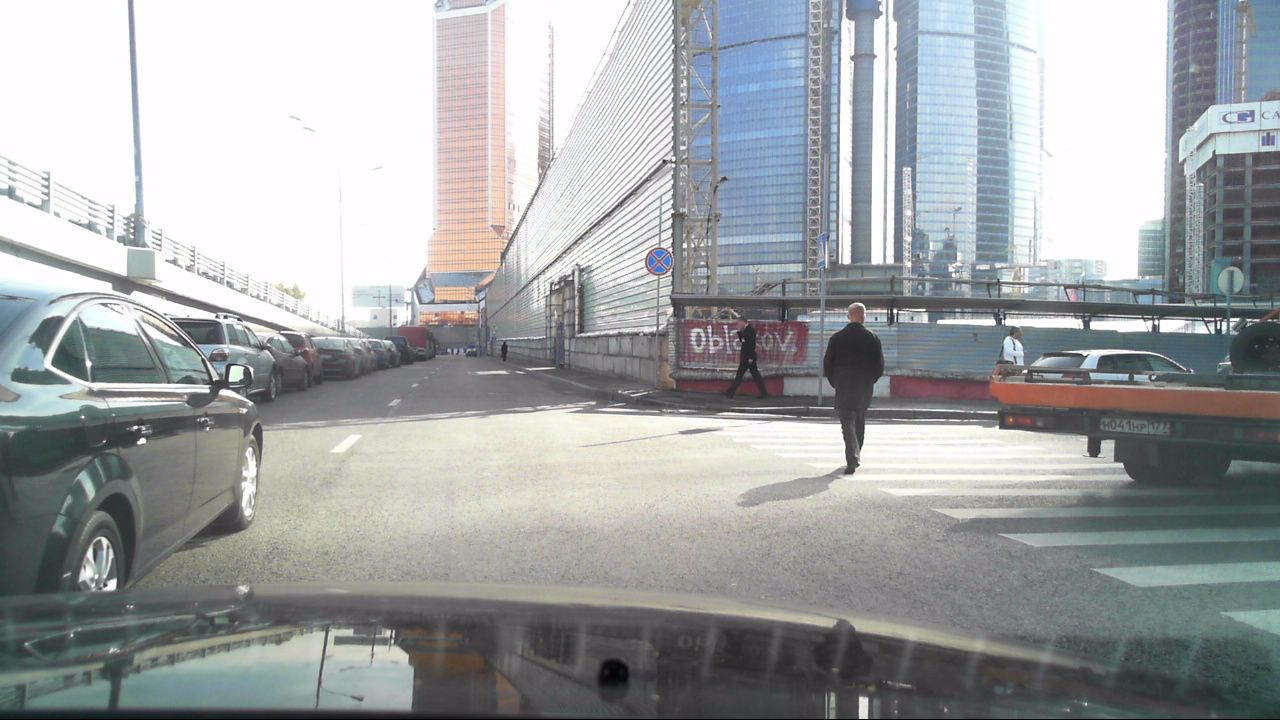No Parking: (643, 247, 673, 277)
